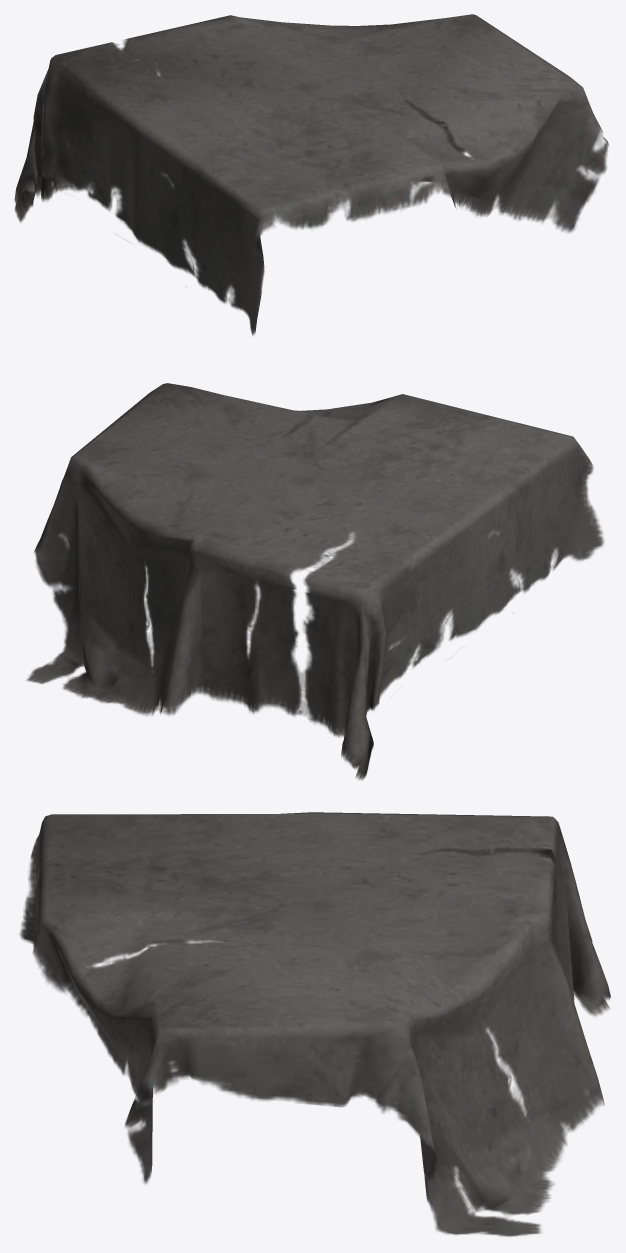
The model's file is cove-tarp-crates.lod0.glb.
3 views of the same model, one above another, from view 1: azimuth 30°, elevation 25°; view 2: azimuth 150°, elevation 25°; view 3: azimuth 270°, elevation 25° (orthographic). The views are drawn at different scales.
Visible parts, largest first — view 1: Cloth_Cloth_0; view 2: Cloth_Cloth_0; view 3: Cloth_Cloth_0.
Boxes of the visible parts, x1,y1,x2,y2 form: Cloth_Cloth_0: (14, 14, 608, 335); Cloth_Cloth_0: (26, 383, 603, 780); Cloth_Cloth_0: (20, 812, 610, 1236).
Size of the model in its own units: 2.3 by 0.9754 by 2.4.
Materials: 1 (1 with a texture image).
